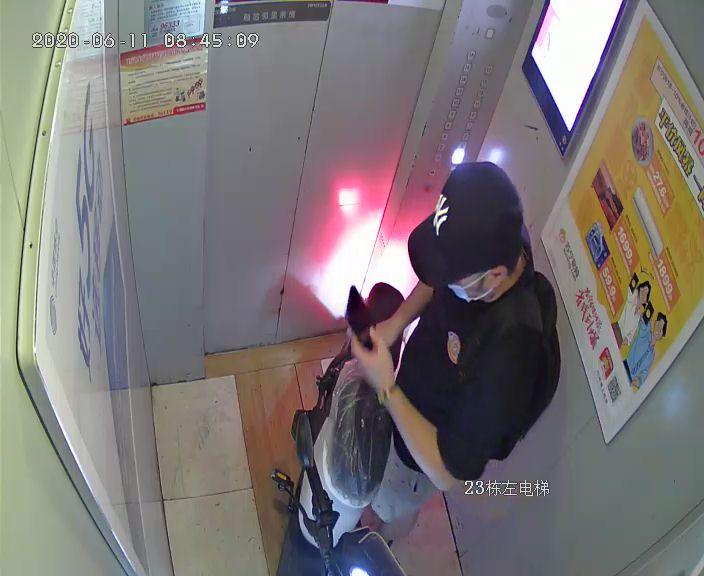Electric-bicycle: (272, 279, 409, 575)
